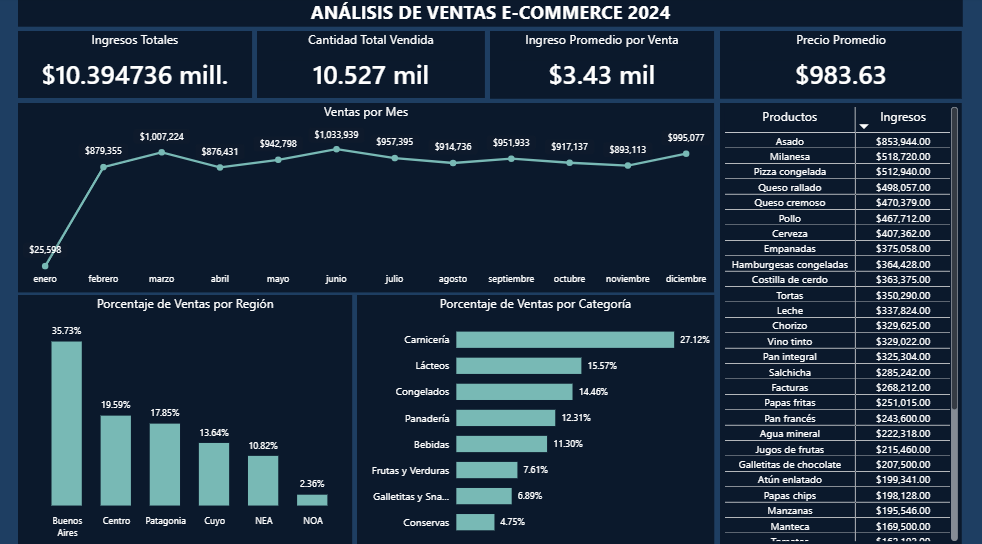

What the dashboard file says about the page in this screenshot:
{"tool":"powerbi","page":{"name":"Página 1","canvas":[1280,720],"ordinal":0},"visuals":[{"type":"cardVisual","title":"Ingresos Totales","fields":{"Data":["ventas.Ingresos Totales"]},"box":[25.5,47.3,303.6,87.3],"z":0},{"type":"textbox","title":"ANÁLISIS DE VENTAS E-COMMERCE 2024","box":[25.5,5.5,1227.3,36.4],"z":1000},{"type":"cardVisual","title":"Ingreso Promedio por Venta","fields":{"Data":["ventas.Ingreso Promedio por Venta"]},"box":[639.2,46.7,290.8,87.5],"z":2000},{"type":"cardVisual","title":"Cantidad Total Vendida","fields":{"Data":["ventas.Cantidad Total"]},"box":[336.4,47.3,296.4,87.3],"z":3000},{"type":"cardVisual","title":"Precio Promedio","fields":{"Data":["ventas.Precio Promedio"]},"box":[937.8,46.7,314.4,87.8],"z":4000},{"type":"lineChart","title":"Ventas por Mes","fields":{"Y":["ventas.Ingresos Totales"],"Category":["ventas.Fecha.Variación.Jerarquía de fechas.Mes"]},"box":[25.9,139.7,904.3,246.2],"z":5000},{"type":"columnChart","title":"Porcentaje de Ventas por Región","fields":{"Category":["clientes.Región"],"Y":["ventas.% Ingresos por Región"]},"box":[25.6,390,434.4,324.4],"z":6000},{"type":"barChart","title":"Porcentaje de Ventas por Categoría","fields":{"Category":["productos.Categoría"],"Y":["ventas.% Ingresos por Categoría"]},"box":[466.2,390,463.8,325],"z":7000},{"type":"tableEx","title":"Productos","fields":{"Values":["productos.Nombre_producto","ventas.Ingresos Totales"]},"box":[937.8,140,314.4,575.6],"z":8000}]}

Visuals, with their boxes in screenshot pixels (x1, y1, x2, y2), scaled from the page's 1280x720 canvas onto the 982x544 screenshot:
"Ingresos Totales" cardVisual: x1=20, y1=36, x2=252, y2=102
"ANÁLISIS DE VENTAS E-COMMERCE 2024" textbox: x1=20, y1=4, x2=961, y2=32
"Ingreso Promedio por Venta" cardVisual: x1=490, y1=35, x2=713, y2=101
"Cantidad Total Vendida" cardVisual: x1=258, y1=36, x2=485, y2=102
"Precio Promedio" cardVisual: x1=719, y1=35, x2=961, y2=102
"Ventas por Mes" lineChart: x1=20, y1=106, x2=714, y2=292
"Porcentaje de Ventas por Región" columnChart: x1=20, y1=295, x2=353, y2=540
"Porcentaje de Ventas por Categoría" barChart: x1=358, y1=295, x2=713, y2=540
"Productos" tableEx: x1=719, y1=106, x2=961, y2=541
